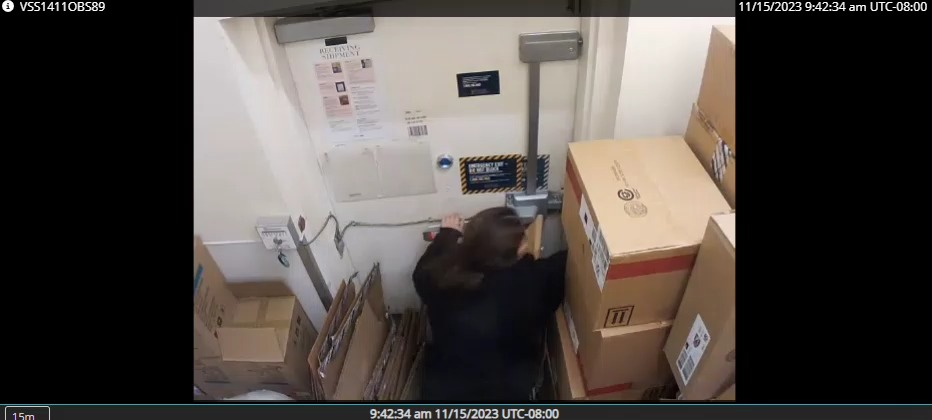No-gloves: (441, 210, 466, 236)
